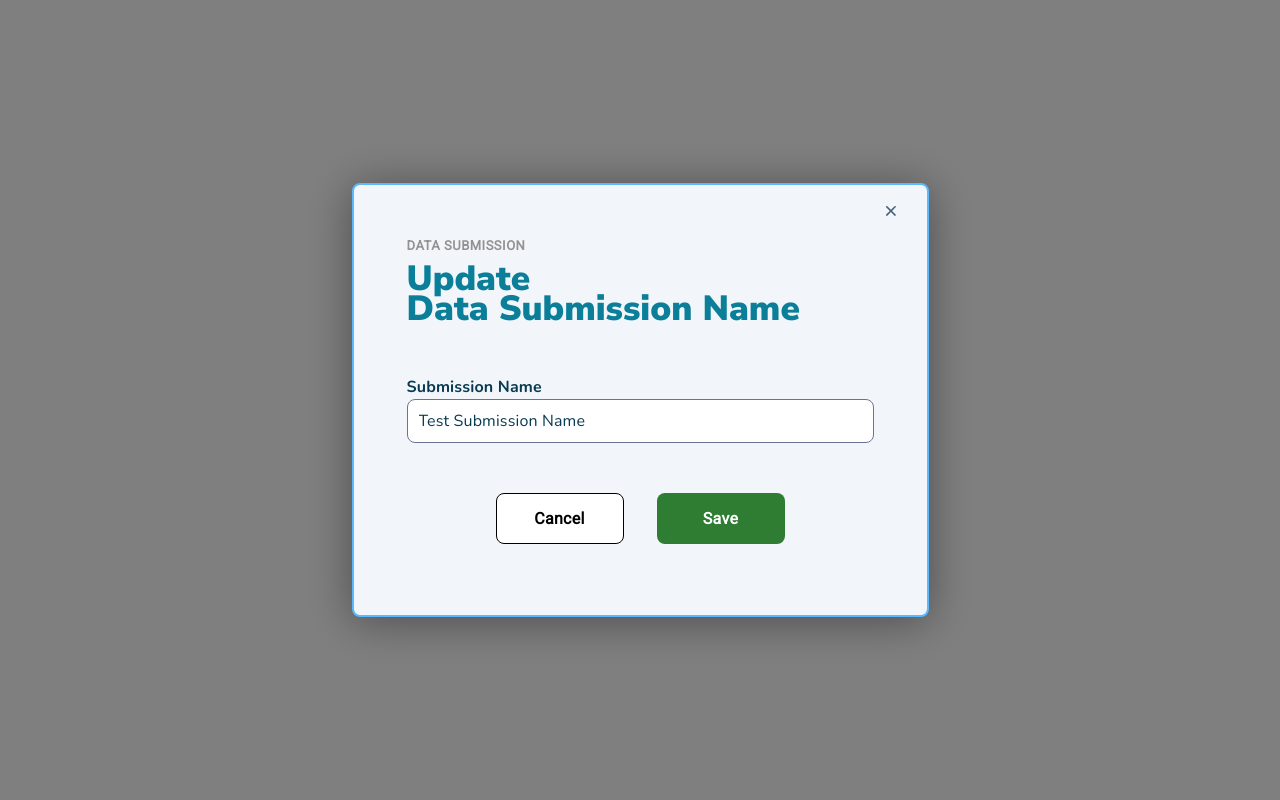
Implementation Requirements › should not allow the input to be empty when saving
Clear the field labelled "Submission Name". click: (640, 421)
box: [406,399,874,443]
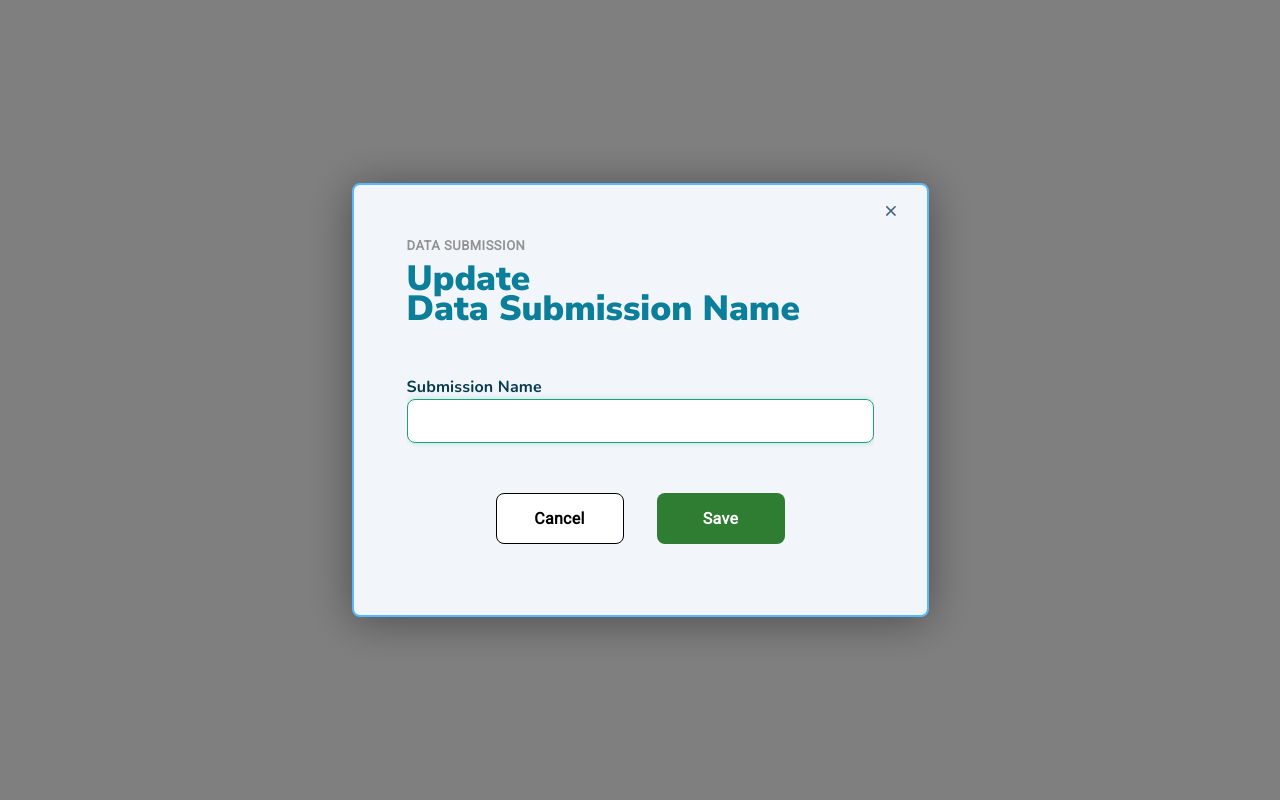
Click the button with test id "edit-submission-name-dialog-save-button". click: click(720, 518)
box: [656,493,784,544]
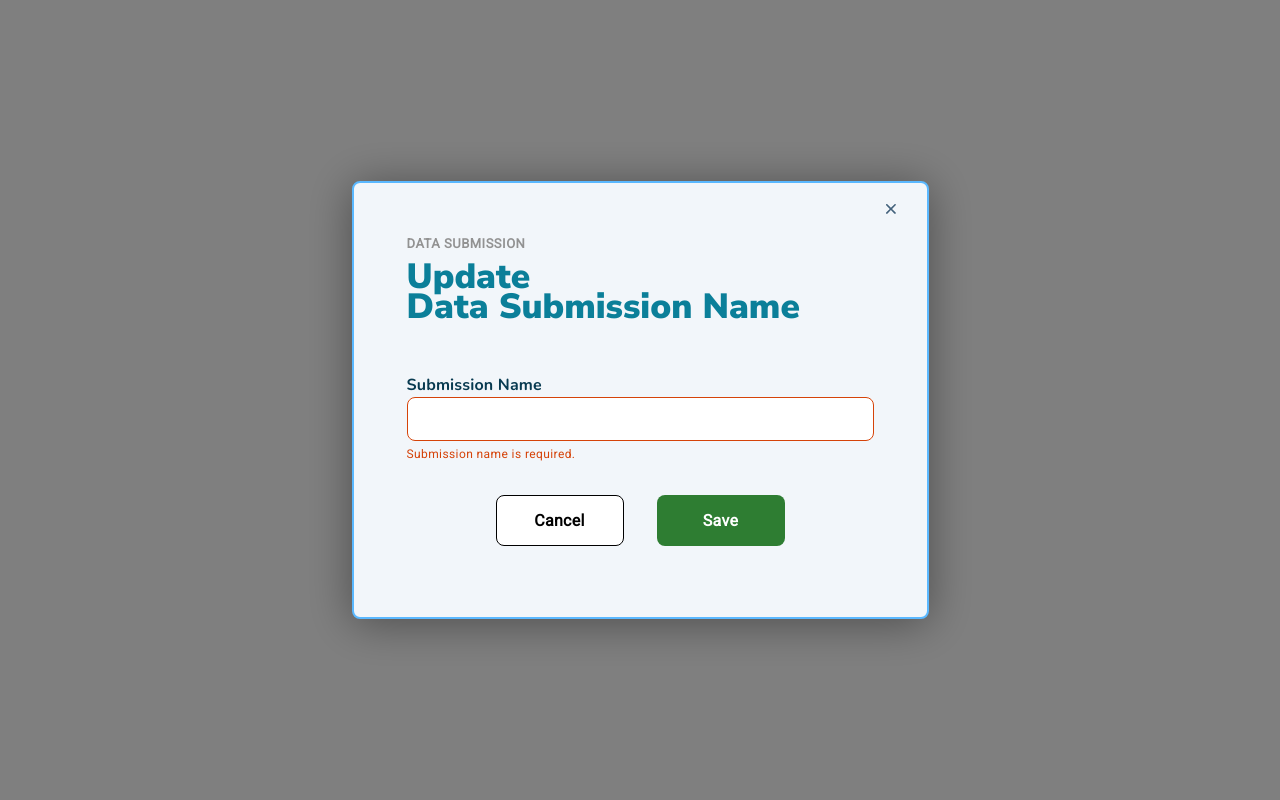
Now the text with test id "edit-submission-name-dialog-error" shows "Submission name is required", box [406,447,575,461]
